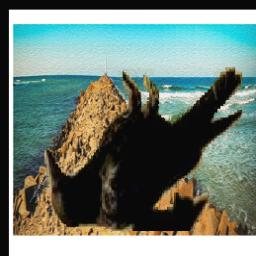Crow: (44, 67, 242, 231)
Swallow: (30, 170, 51, 203)
